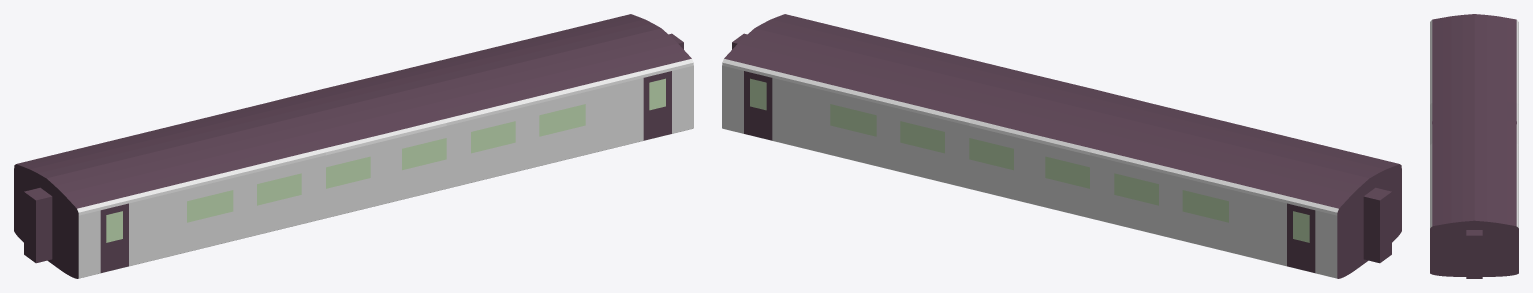
Rendered from carriage.fbx.
3 views of the same model, side by side, from view 1: azimuth 30°, elevation 25°; view 2: azimuth 150°, elevation 25°; view 3: azimuth 270°, elevation 25° (orthographic). The views are drawn at different scales.
Parts seen in each view (by area): view 1: Cube; view 2: Cube; view 3: Cube.
Boxes of the visible parts, x1,y1,x2,y2 form: Cube: [14, 14, 693, 278]; Cube: [722, 14, 1401, 278]; Cube: [1430, 14, 1518, 278].
Bounding box in the file's own units: 2855 × 343 × 493.
